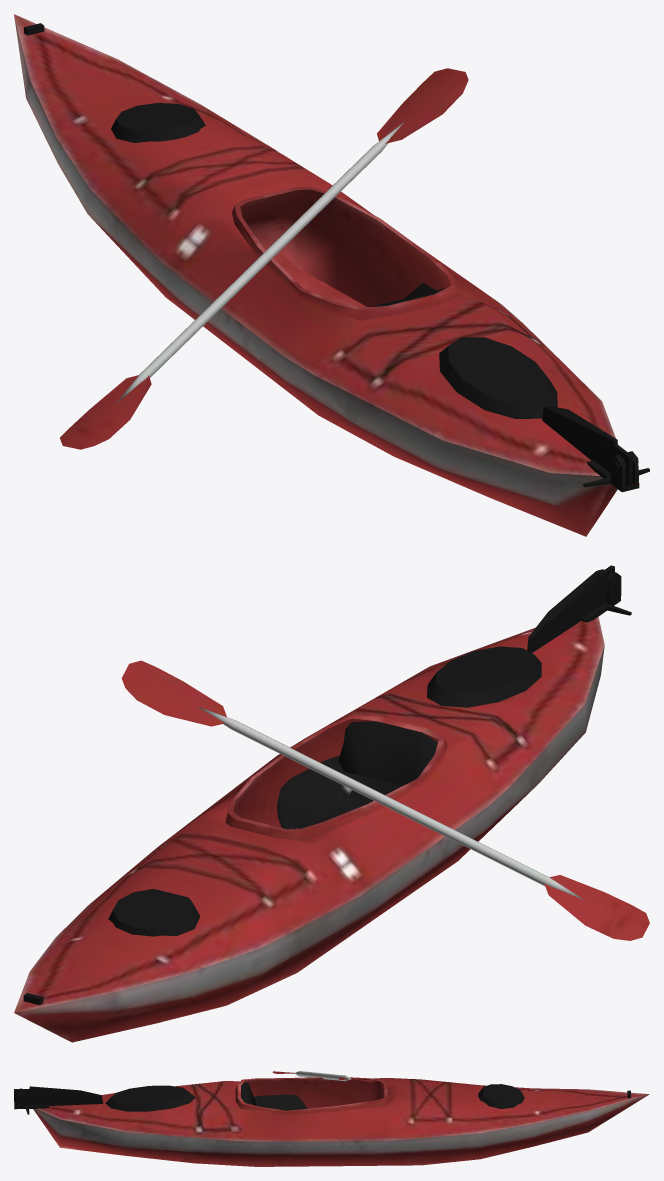
The model's file is bay-kayak.lod0.glb.
The picture shows the model from 3 angles, top to bottom: view 1: azimuth 30°, elevation 25°; view 2: azimuth 150°, elevation 25°; view 3: azimuth 270°, elevation 25°; orthographic projection. The views are drawn at different scales.
Visible parts, largest first — view 1: polySurface3_lambert2_0; view 2: polySurface3_lambert2_0; view 3: polySurface3_lambert2_0.
Part boxes in pixels (x1,y1,x2,y2): polySurface3_lambert2_0: (14, 14, 649, 536); polySurface3_lambert2_0: (14, 565, 649, 1042); polySurface3_lambert2_0: (14, 1071, 649, 1166).
Size of the model in its own units: 2.14 by 0.9391 by 4.9.
Materials: 1 (1 with a texture image).
